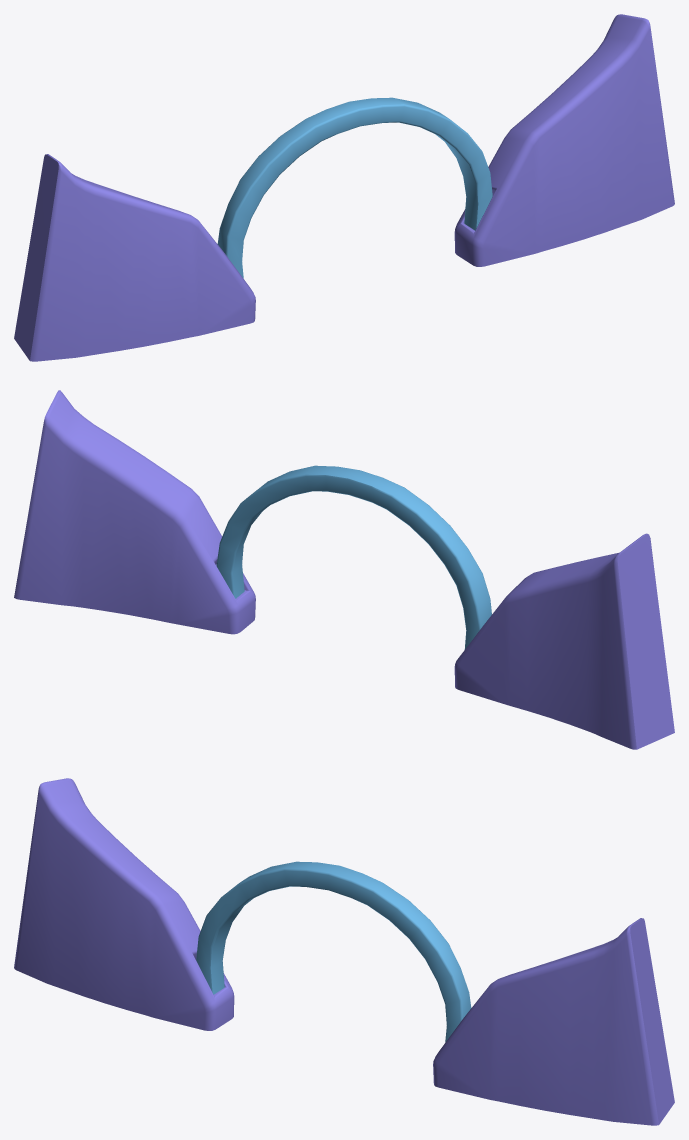
Rendered from Lb_Structure_03.fbx.
The picture shows the model from 3 angles, top to bottom: view 1: azimuth 30°, elevation 25°; view 2: azimuth 150°, elevation 25°; view 3: azimuth 330°, elevation 25°; orthographic projection.
Parts seen in each view (by area): view 1: Lb_Structure_03; view 2: Lb_Structure_03; view 3: Lb_Structure_03.
Boxes of the visible parts, x1,y1,x2,y2 form: Lb_Structure_03: (14, 14, 674, 361); Lb_Structure_03: (14, 390, 674, 749); Lb_Structure_03: (14, 778, 674, 1125).
Bounding box in the file's own units: 3551 × 1016 × 408.
